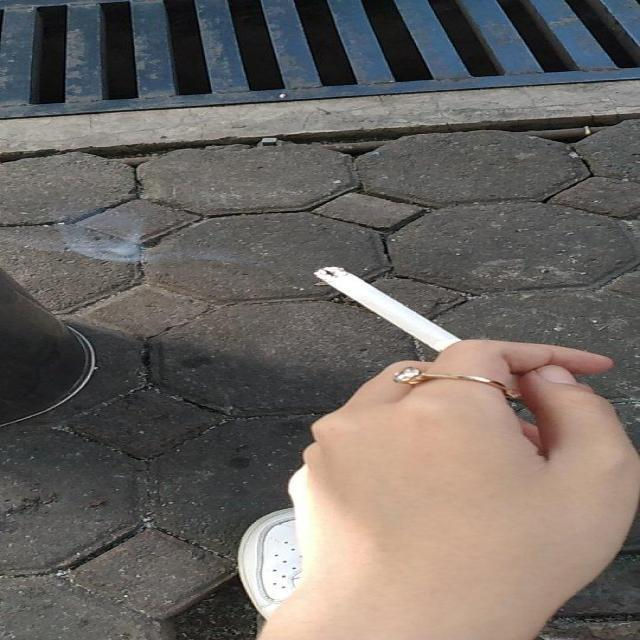rokok: (297, 255, 475, 363)
